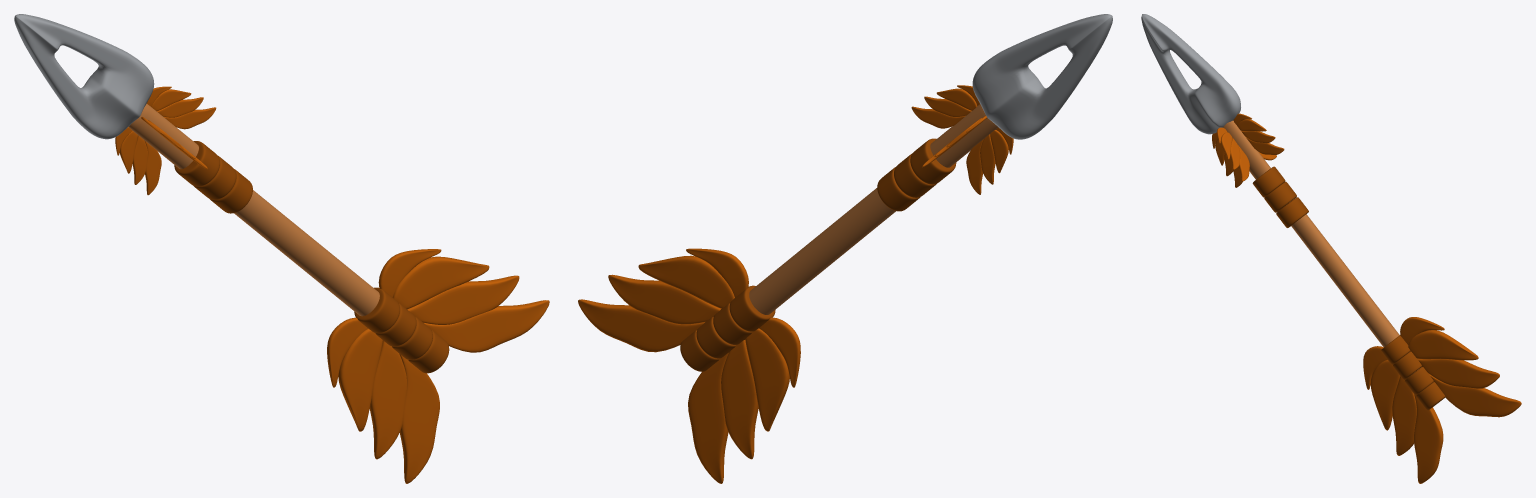
The model's file is projectile.glb.
3 views of the same model, side by side, from view 1: azimuth 30°, elevation 25°; view 2: azimuth 150°, elevation 25°; view 3: azimuth 330°, elevation 25° (orthographic). The views are drawn at different scales.
Parts seen in each view (by area): view 1: Plane.013, Plane.009, Cylinder.008, Plane.011, Cylinder.009, Cylinder.013, Cylinder.015, Cylinder.011, Cylinder.014, Cylinder.010, Cylinder.012; view 2: Plane.013, Plane.009, Cylinder.008, Plane.011, Cylinder.013, Cylinder.009, Cylinder.015, Cylinder.014, Cylinder.011, Cylinder.010, Cylinder.012; view 3: Plane.013, Plane.009, Cylinder.008, Plane.011, Plane.012, Cylinder.014, Cylinder.015, Cylinder.013, Cylinder.009, Cylinder.012, Cylinder.010, Cylinder.011.
Boxes of the visible parts, bbox=[...] form: Plane.013: bbox=[327, 249, 549, 483]; Plane.009: bbox=[14, 14, 154, 139]; Cylinder.008: bbox=[128, 103, 379, 316]; Plane.011: bbox=[115, 86, 216, 195]; Cylinder.009: bbox=[354, 287, 399, 333]; Cylinder.013: bbox=[174, 141, 219, 186]; Cylinder.015: bbox=[210, 169, 252, 213]; Cylinder.011: bbox=[392, 317, 432, 359]; Cylinder.014: bbox=[194, 156, 236, 199]; Cylinder.010: bbox=[375, 303, 416, 346]; Cylinder.012: bbox=[408, 330, 449, 373]; Plane.013: bbox=[578, 248, 800, 483]; Plane.009: bbox=[972, 14, 1112, 139]; Cylinder.008: bbox=[749, 104, 998, 314]; Plane.011: bbox=[911, 85, 1013, 194]; Cylinder.013: bbox=[910, 138, 956, 184]; Cylinder.009: bbox=[729, 285, 775, 331]; Cylinder.015: bbox=[877, 167, 920, 211]; Cylinder.014: bbox=[894, 153, 936, 197]; Cylinder.011: bbox=[696, 317, 735, 358]; Cylinder.010: bbox=[713, 303, 752, 344]; Cylinder.012: bbox=[680, 330, 719, 371]; Plane.013: bbox=[1363, 317, 1521, 483]; Plane.009: bbox=[1141, 14, 1240, 134]; Cylinder.008: bbox=[1223, 120, 1418, 372]; Plane.011: bbox=[1212, 113, 1284, 187]; Plane.012: bbox=[1217, 127, 1276, 181]; Cylinder.014: bbox=[1264, 181, 1296, 212]; Cylinder.015: bbox=[1276, 197, 1308, 227]; Cylinder.013: bbox=[1252, 166, 1285, 197]; Cylinder.009: bbox=[1381, 335, 1410, 364]; Cylinder.012: bbox=[1416, 382, 1445, 410]; Cylinder.010: bbox=[1393, 351, 1421, 379]; Cylinder.011: bbox=[1404, 367, 1433, 395].
Bounding box in the file's own units: 5.9 × 5.95 × 0.9234.
